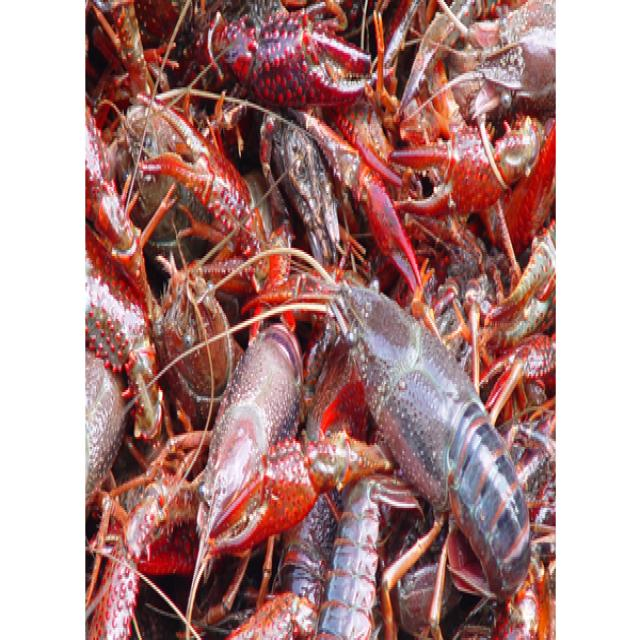Crawfish: (87, 6, 554, 640), (331, 283, 531, 600), (200, 440, 328, 563)
